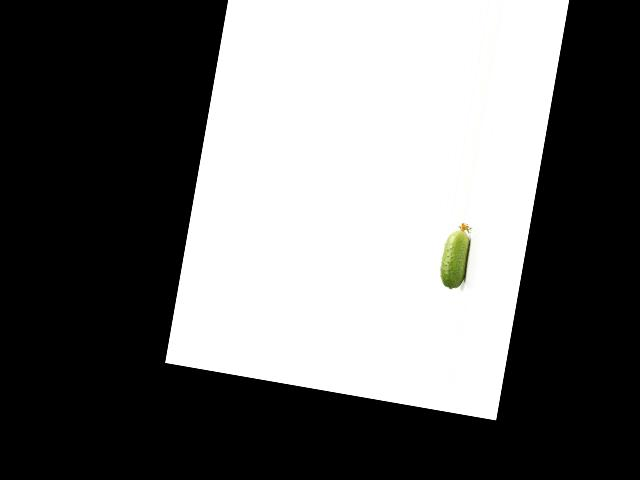cucumber: (437, 221, 474, 291)
